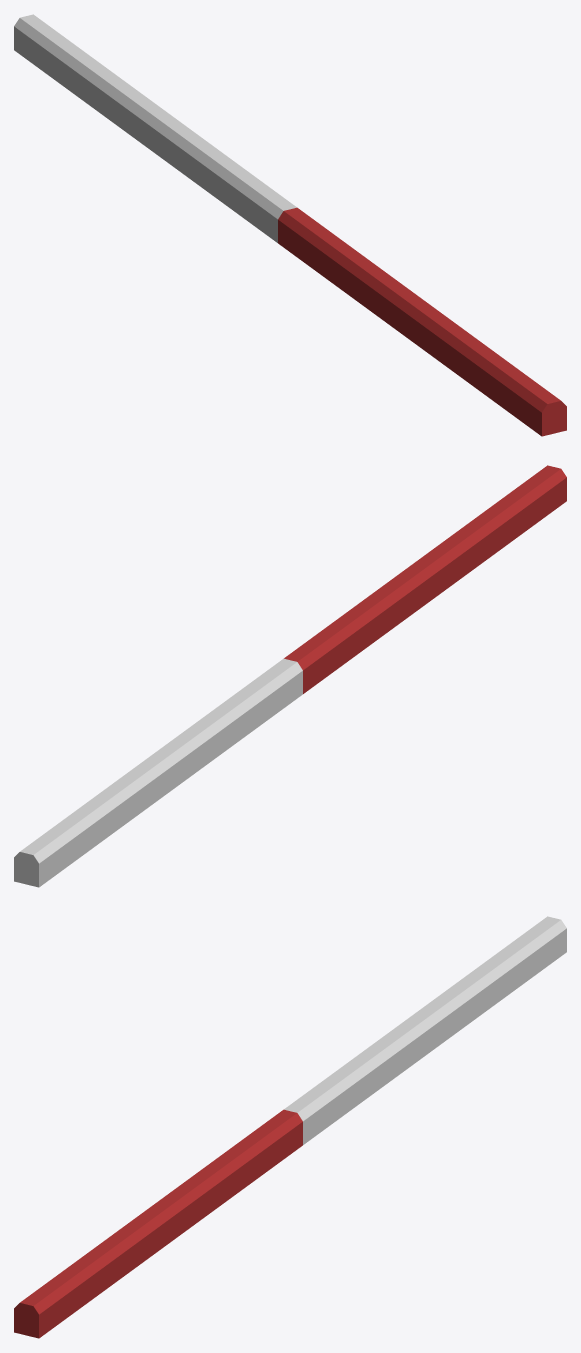
The model's file is sw_trk_curb.glb.
3 views of the same model, one above another, from view 1: azimuth 30°, elevation 25°; view 2: azimuth 150°, elevation 25°; view 3: azimuth 330°, elevation 25° (orthographic).
Visible parts, largest first — view 1: sw_trk_curb; view 2: sw_trk_curb; view 3: sw_trk_curb.
Boxes of the visible parts, x1=… form: sw_trk_curb: x1=14, y1=14, x2=566, y2=436; sw_trk_curb: x1=14, y1=465, x2=566, y2=887; sw_trk_curb: x1=14, y1=916, x2=566, y2=1338.
Size of the model in its own units: 0.2197 by 0.2598 by 8.
